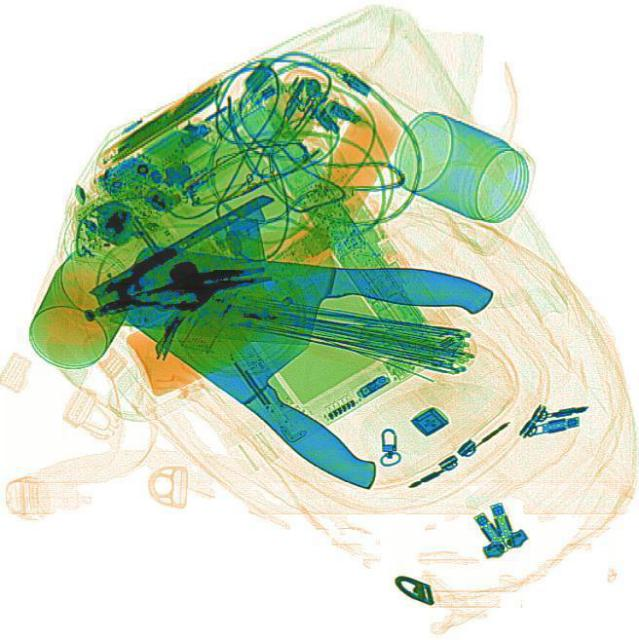Knife: (96, 225, 423, 500), (117, 242, 492, 364)
